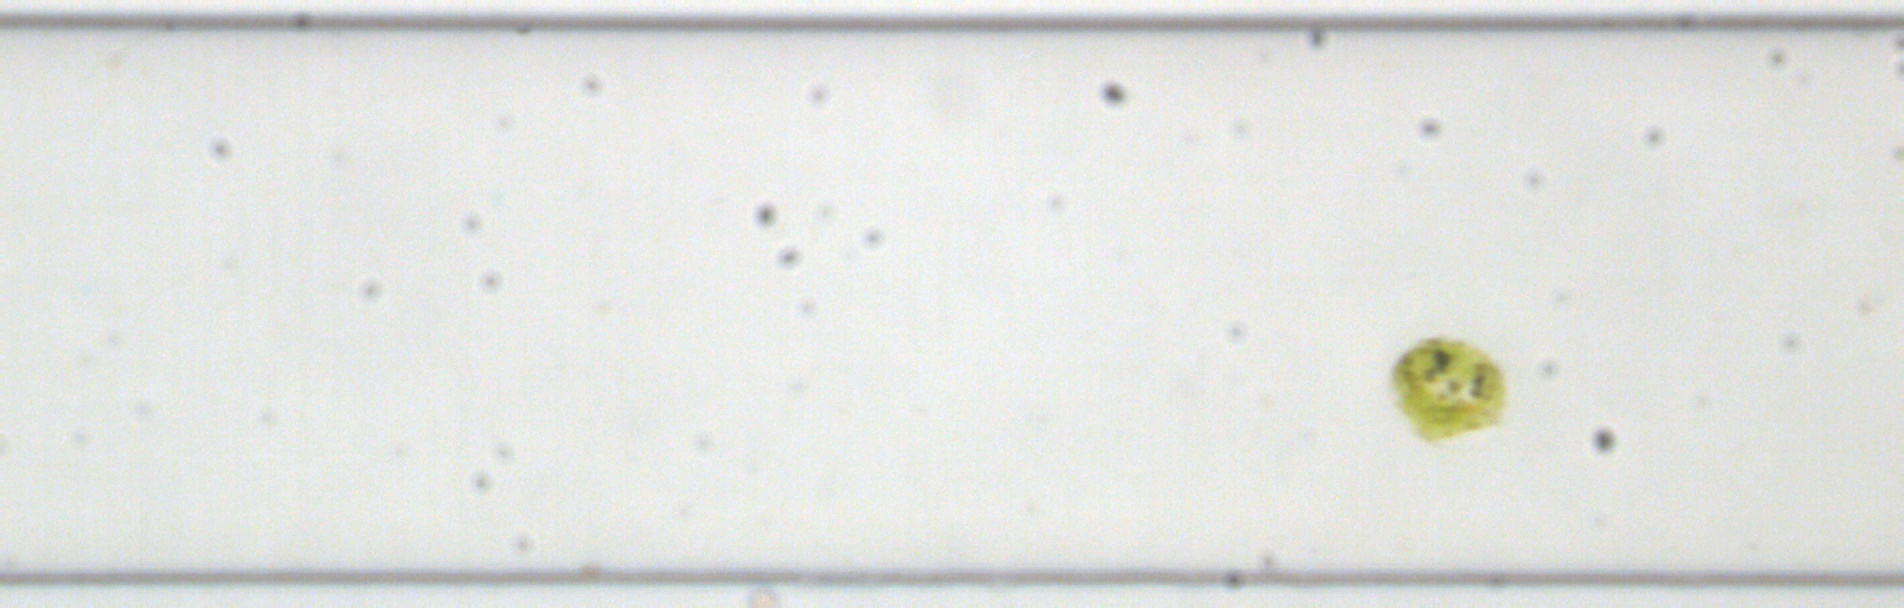Haematococcus: (1384, 333, 1508, 449)
